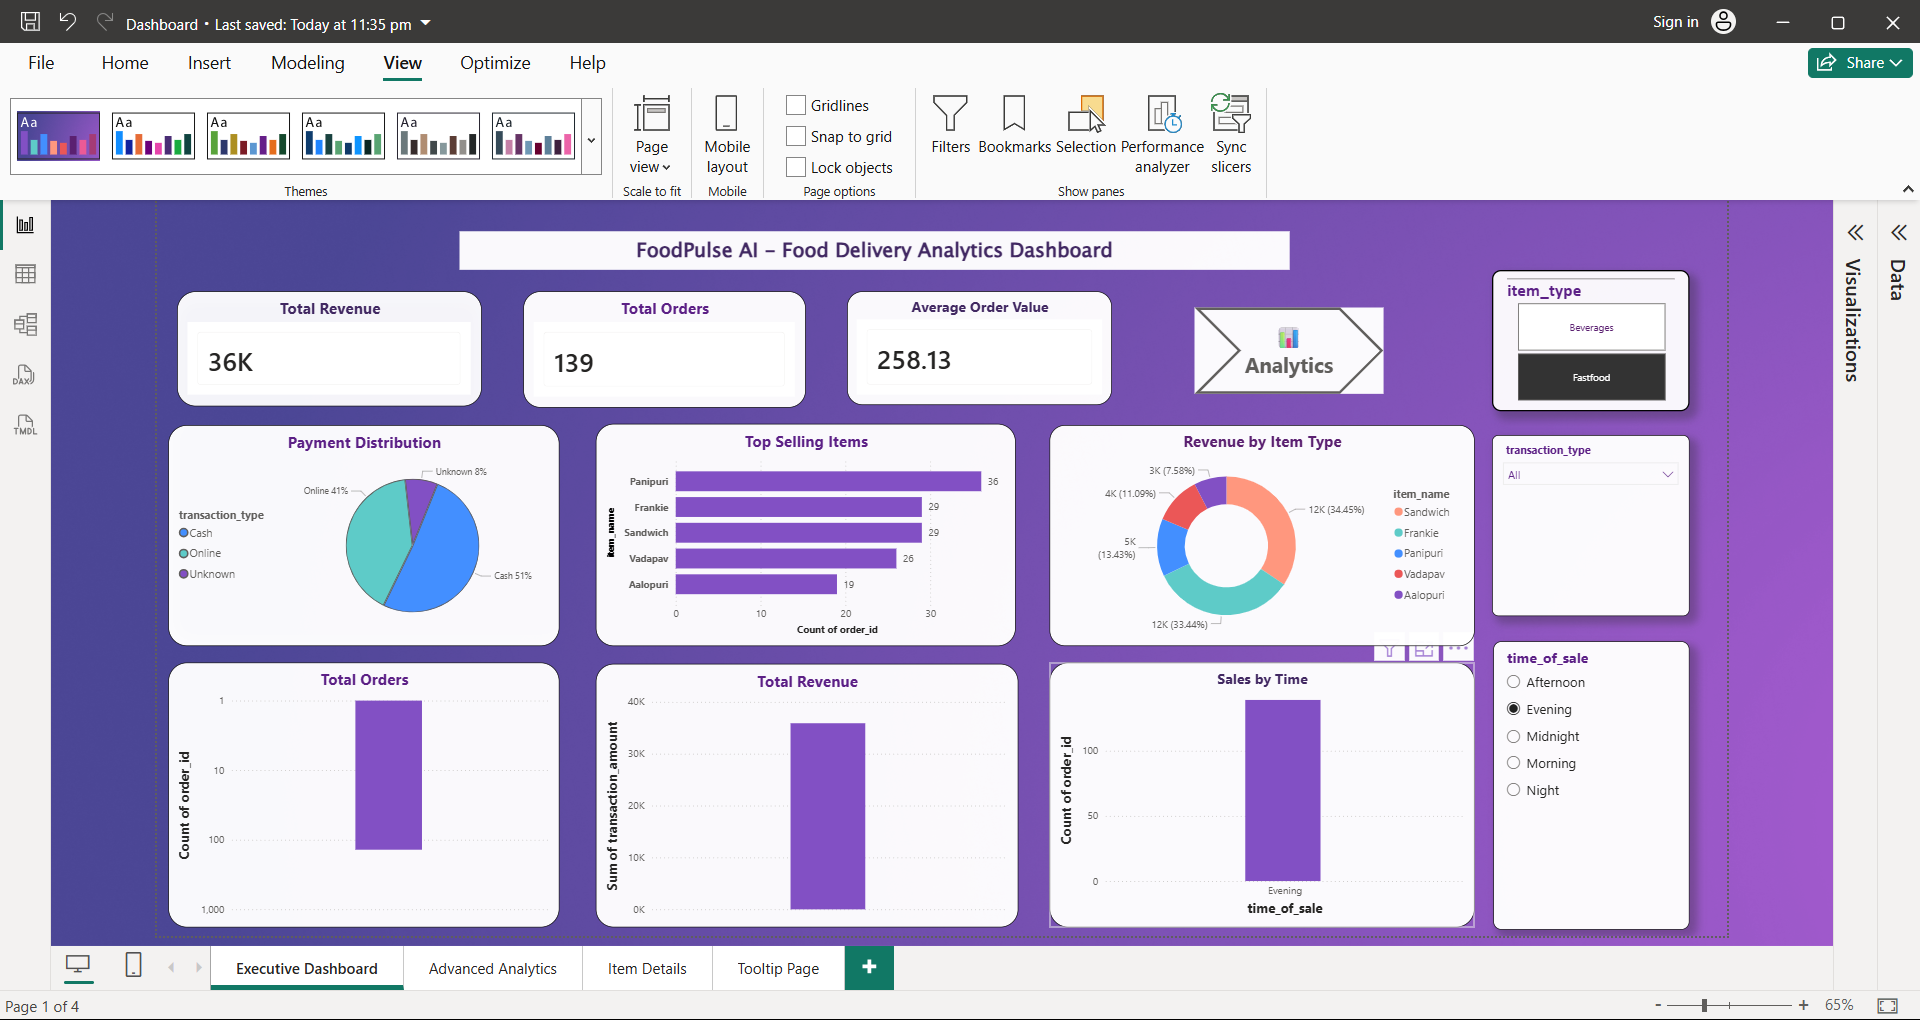

What the dashboard file says about the page in this screenshot:
{"tool":"powerbi","page":{"name":"Executive Dashboard","canvas":[1920,900],"ordinal":0},"visuals":[{"type":"cardVisual","title":"Total Revenue","fields":{"Data":["Sum(cleaned_foodorders.transaction_amount)"]},"box":[24.5,111.6,373,140.6],"z":0},{"type":"cardVisual","title":"Total Orders","fields":{"Data":["CountNonNull(cleaned_foodorders.order_id)"]},"box":[447.9,111.6,345.5,142.2],"z":1000},{"type":"cardVisual","title":"Average Order Value","fields":{"Data":["Avg(cleaned_foodorders.transaction_amount)"]},"box":[843.8,111.6,324.1,139.1],"z":2000},{"type":"clusteredBarChart","title":"Top Selling Items","fields":{"Category":["cleaned_foodorders.item_name"],"Y":["CountNonNull(cleaned_foodorders.order_id)"]},"box":[536.5,273.6,513.6,272.1],"z":3000},{"type":"pieChart","title":"Payment Distribution","fields":{"Category":["cleaned_foodorders.transaction_type"],"Y":["CountNonNull(cleaned_foodorders.order_id)"]},"box":[13.8,275.1,478.4,270.6],"z":4000},{"type":"clusteredColumnChart","title":"Sales by Time","fields":{"Category":["cleaned_foodorders.time_of_sale"],"Y":["CountNonNull(cleaned_foodorders.order_id)"]},"box":[1091.4,565.6,519.7,324.1],"z":5000},{"type":"slicer","fields":{"Values":["cleaned_foodorders.transaction_type"]},"box":[1632.5,287.4,241.5,221.6],"z":6000},{"type":"slicer","fields":{"Values":["cleaned_foodorders.item_type"]},"box":[1632.5,85.6,241.5,172.7],"z":7000},{"type":"slicer","fields":{"Values":["cleaned_foodorders.time_of_sale"]},"box":[1634,539.6,240,353],"z":8000},{"type":"textbox","box":[369.9,38.2,1015,47.4],"z":9000},{"type":"actionButton","box":[1268.7,131.5,230.8,105.5],"z":10000},{"type":"clusteredColumnChart","title":"Total Orders","fields":{"Y":["CountNonNull(cleaned_foodorders.order_id)"]},"box":[13.8,565.6,478.4,324.1],"z":11000},{"type":"clusteredColumnChart","title":"Total Revenue","fields":{"Y":["Sum(cleaned_foodorders.transaction_amount)"]},"box":[536.5,567.1,516.6,322.5],"z":12000},{"type":"donutChart","title":"Revenue by Item Type","fields":{"Category":["cleaned_foodorders.item_name"],"Y":["Sum(cleaned_foodorders.transaction_amount)"]},"box":[1091.4,275.1,519.7,270.6],"z":13000}]}

Visuals, with their boxes on the page's 1920x900 design canvas (x1, y1, x2, y2). These are canvas units, not pixel positions in the 1920x1020 screenshot, which may show the page scaled, cropped or inside an application window:
"Total Revenue" cardVisual: (left=24, top=112, right=398, bottom=252)
"Total Orders" cardVisual: (left=448, top=112, right=793, bottom=254)
"Average Order Value" cardVisual: (left=844, top=112, right=1168, bottom=251)
"Top Selling Items" clusteredBarChart: (left=536, top=274, right=1050, bottom=546)
"Payment Distribution" pieChart: (left=14, top=275, right=492, bottom=546)
"Sales by Time" clusteredColumnChart: (left=1091, top=566, right=1611, bottom=890)
slicer - cleaned_foodorders.transaction_type: (left=1632, top=287, right=1874, bottom=509)
slicer - cleaned_foodorders.item_type: (left=1632, top=86, right=1874, bottom=258)
slicer - cleaned_foodorders.time_of_sale: (left=1634, top=540, right=1874, bottom=893)
textbox: (left=370, top=38, right=1385, bottom=86)
actionButton: (left=1269, top=132, right=1500, bottom=237)
"Total Orders" clusteredColumnChart: (left=14, top=566, right=492, bottom=890)
"Total Revenue" clusteredColumnChart: (left=536, top=567, right=1053, bottom=890)
"Revenue by Item Type" donutChart: (left=1091, top=275, right=1611, bottom=546)
